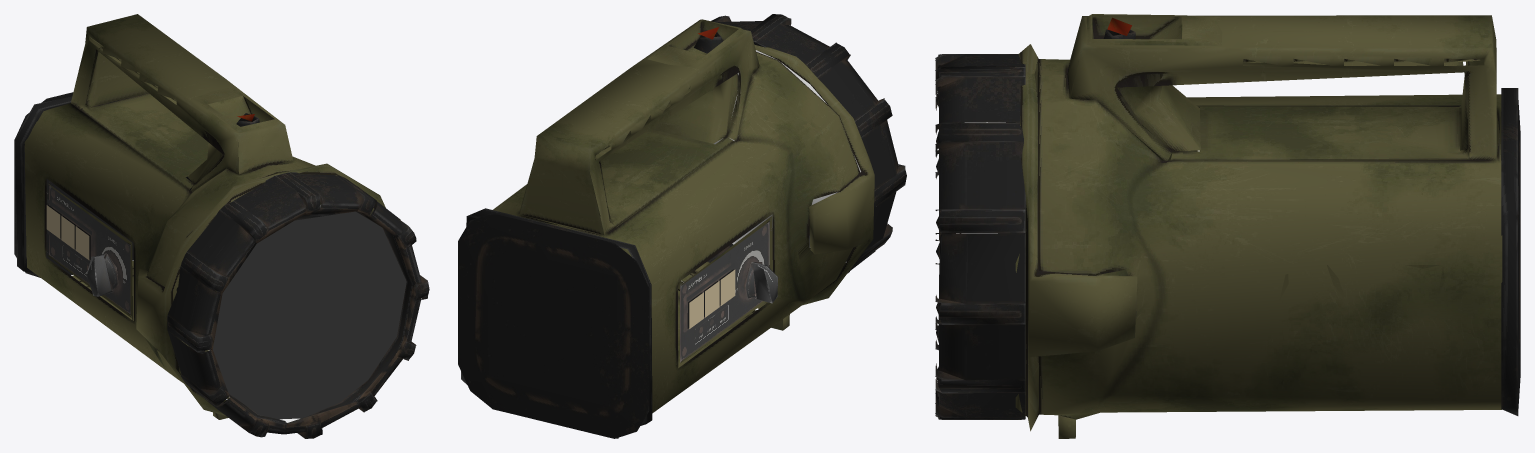
Rendered from portable_searchlight.glb.
3 views of the same model, side by side, from view 1: azimuth 30°, elevation 25°; view 2: azimuth 150°, elevation 25°; view 3: azimuth 270°, elevation 25° (orthographic). The views are drawn at different scales.
Visible parts, largest first — view 1: portable_searchlight; view 2: portable_searchlight; view 3: portable_searchlight.
Part boxes in pixels (x1=…): portable_searchlight: x1=14, y1=14, x2=429, y2=438; portable_searchlight: x1=458, y1=14, x2=906, y2=438; portable_searchlight: x1=935, y1=14, x2=1520, y2=438.
Size of the model in its own units: 0.1642 by 0.1848 by 0.2531.
2 materials, 2 textured.
